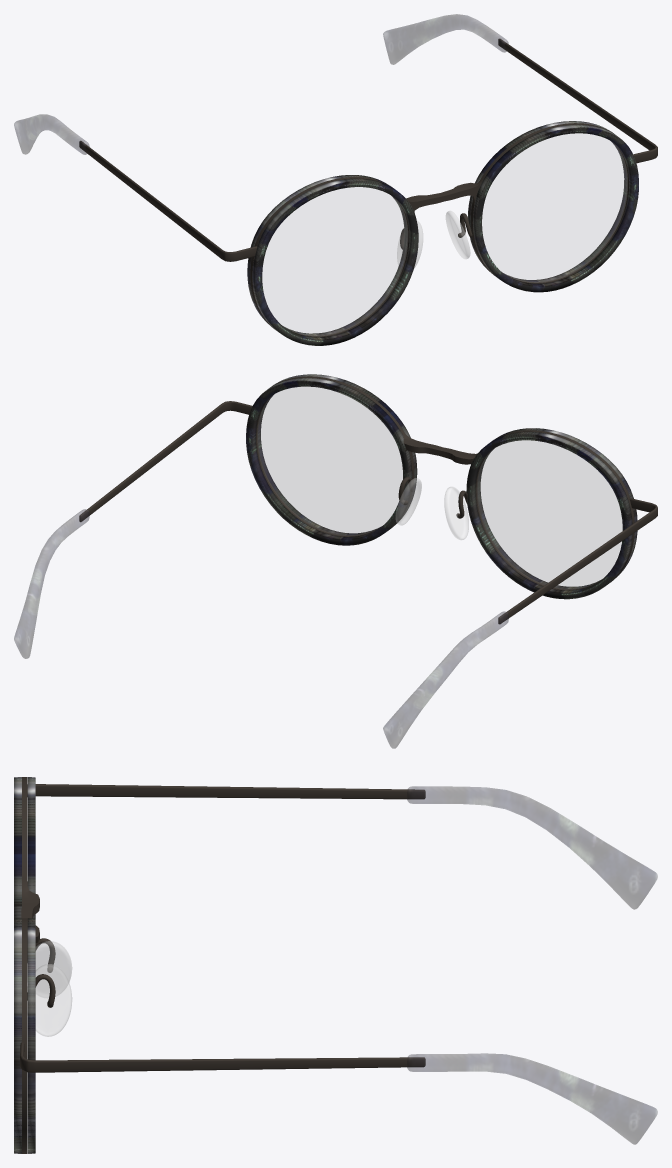
The model's file is variant-10.glb.
3 renders of one model, top to bottom at view 1: azimuth 30°, elevation 25°; view 2: azimuth 150°, elevation 25°; view 3: azimuth 270°, elevation 25°, orthographic. The views are drawn at different scales.
Parts seen in each view (by area): view 1: Circle.005, Circle.004, monture.008, Circle.003; view 2: Circle.005, Circle.004, monture.008, Circle.003; view 3: monture.008, Circle.004, Circle.003.
Part boxes in pixels (x1=…): Circle.005: x1=262, y1=133, x2=627, y2=335; Circle.004: x1=247, y1=121, x2=638, y2=345; monture.008: x1=14, y1=14, x2=657, y2=261; Circle.003: x1=250, y1=123, x2=629, y2=337; Circle.005: x1=257, y1=387, x2=622, y2=589; Circle.004: x1=246, y1=374, x2=637, y2=599; monture.008: x1=14, y1=401, x2=657, y2=748; Circle.003: x1=256, y1=376, x2=634, y2=590; monture.008: x1=20, y1=784, x2=657, y2=1144; Circle.004: x1=14, y1=777, x2=72, y2=1153; Circle.003: x1=21, y1=777, x2=39, y2=1153.
Size of the model in its own units: 2.14 by 0.7529 by 2.09.
5 materials, 2 textured.
